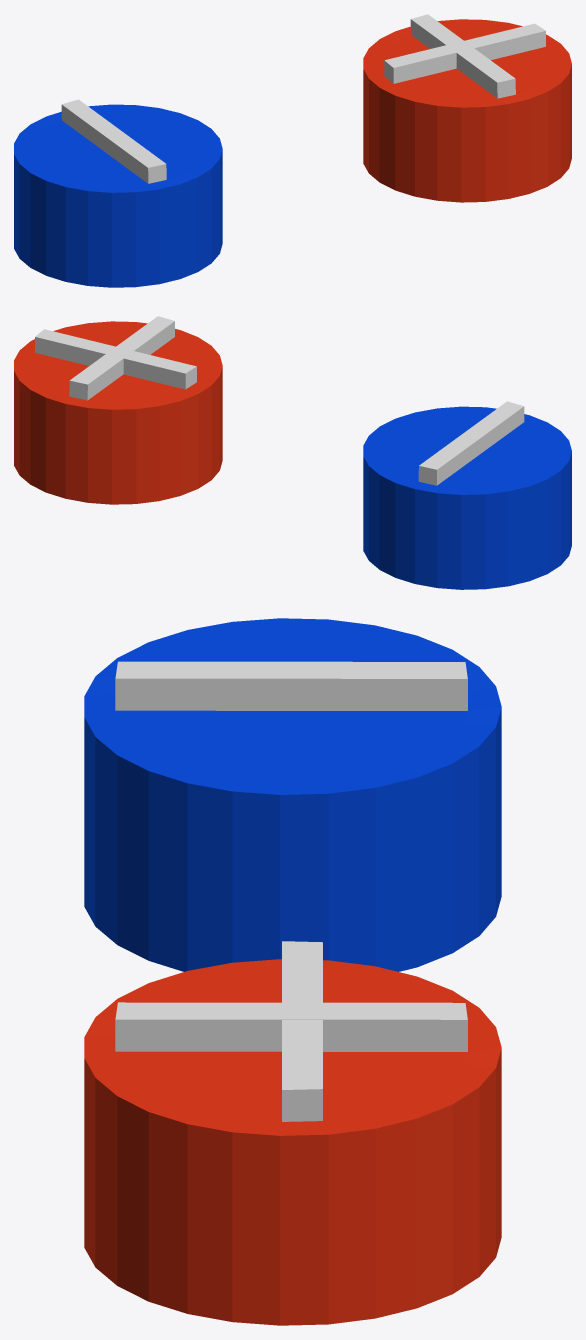
File: minus-plus.fbx
3 views of the same model, one above another, from view 1: azimuth 30°, elevation 25°; view 2: azimuth 150°, elevation 25°; view 3: azimuth 270°, elevation 25° (orthographic). The views are drawn at different scales.
Parts seen in each view (by area): view 1: Cylinder, Cylinder.001; view 2: Cylinder, Cylinder.001; view 3: Cylinder, Cylinder.001.
Part boxes in pixels (left/top/right/bottom): Cylinder: left=363, top=14, right=571, bottom=202; Cylinder.001: left=14, top=99, right=222, bottom=287; Cylinder: left=14, top=316, right=222, bottom=504; Cylinder.001: left=363, top=401, right=571, bottom=589; Cylinder: left=84, top=941, right=501, bottom=1325; Cylinder.001: left=84, top=618, right=501, bottom=971.
Bounding box in the file's own units: 117 × 23.39 × 39.86.
